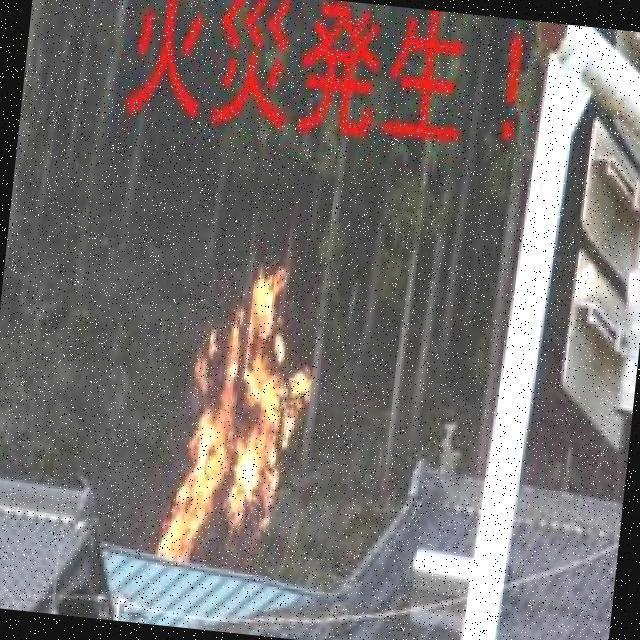Fire: (162, 256, 333, 578)
